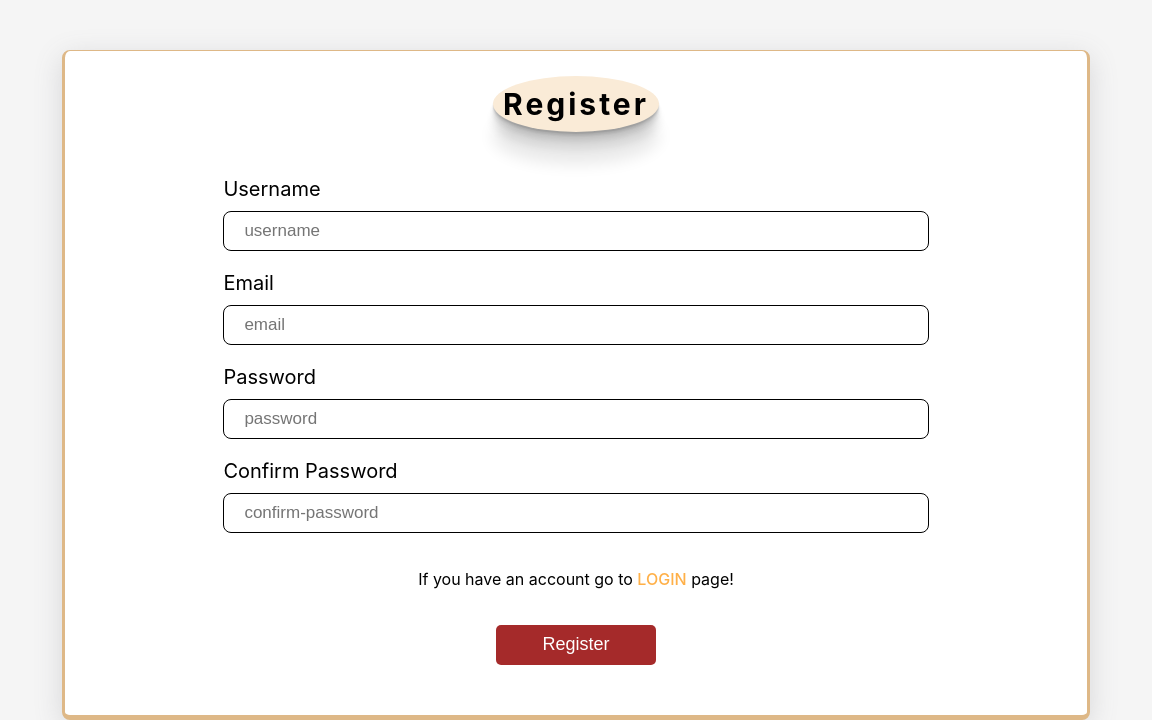
Test: Register Component › Render erros for invalid email
Type "test" into the field with test id "email". click: coordinates (576, 325)
box: [223,305,929,345]
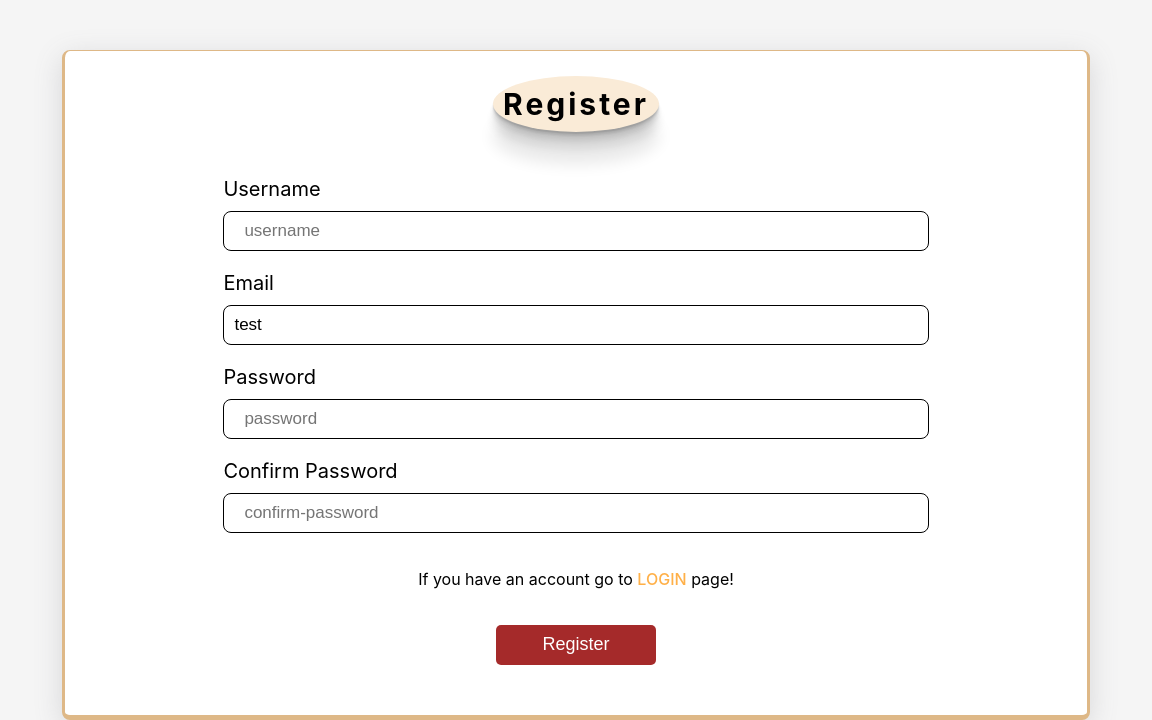
Leave the field with test id "email", box [223,305,929,345]
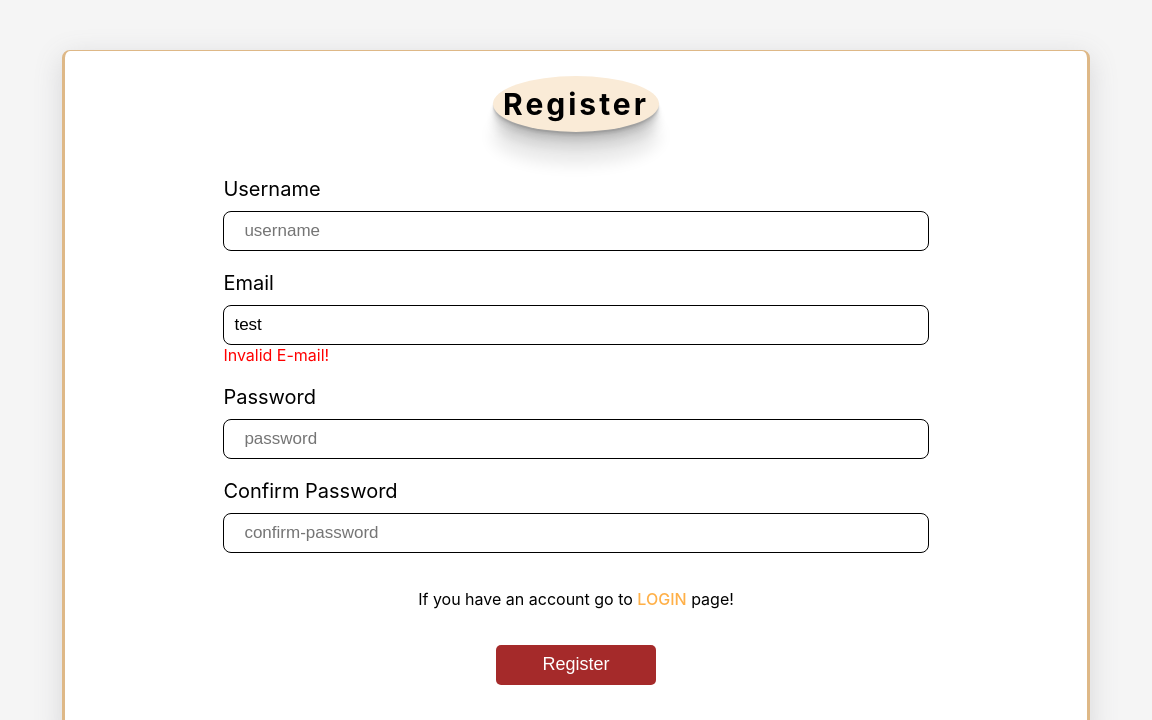
Now the text "Invalid E-mail!" is shown, box [223,345,329,365]
Type "a" into the field with test id "username". click: coordinates (576, 231)
box: [223,211,929,251]
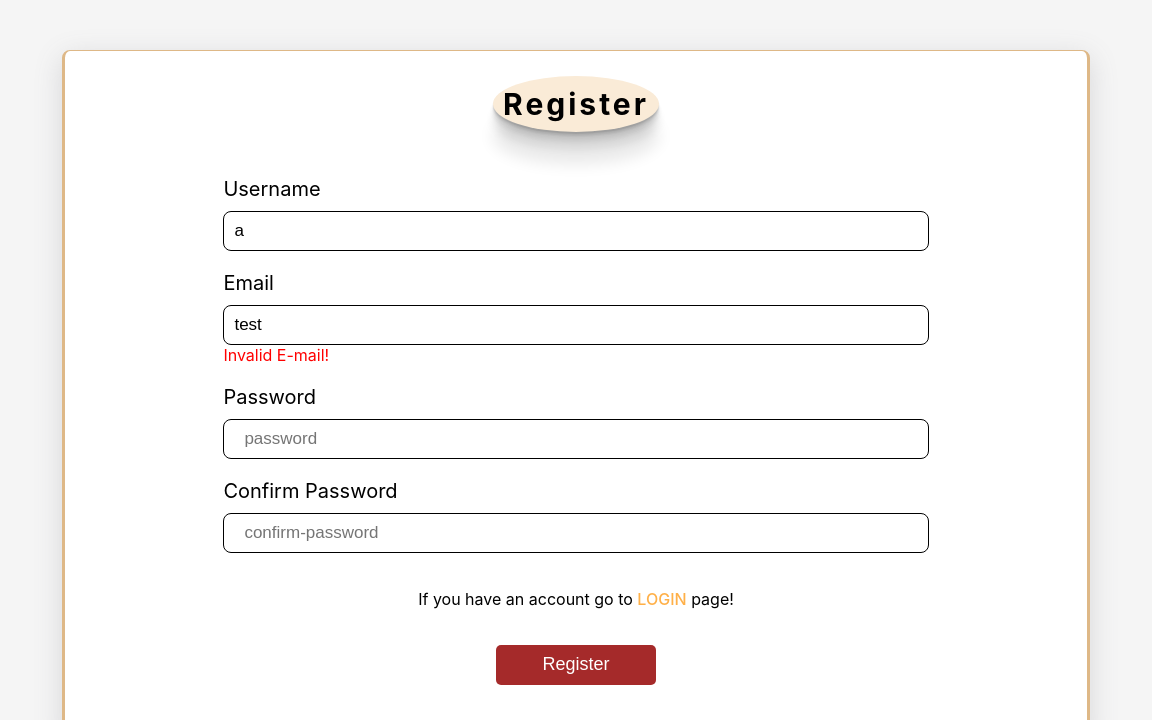
Leave the field with test id "username", box [223,211,929,251]
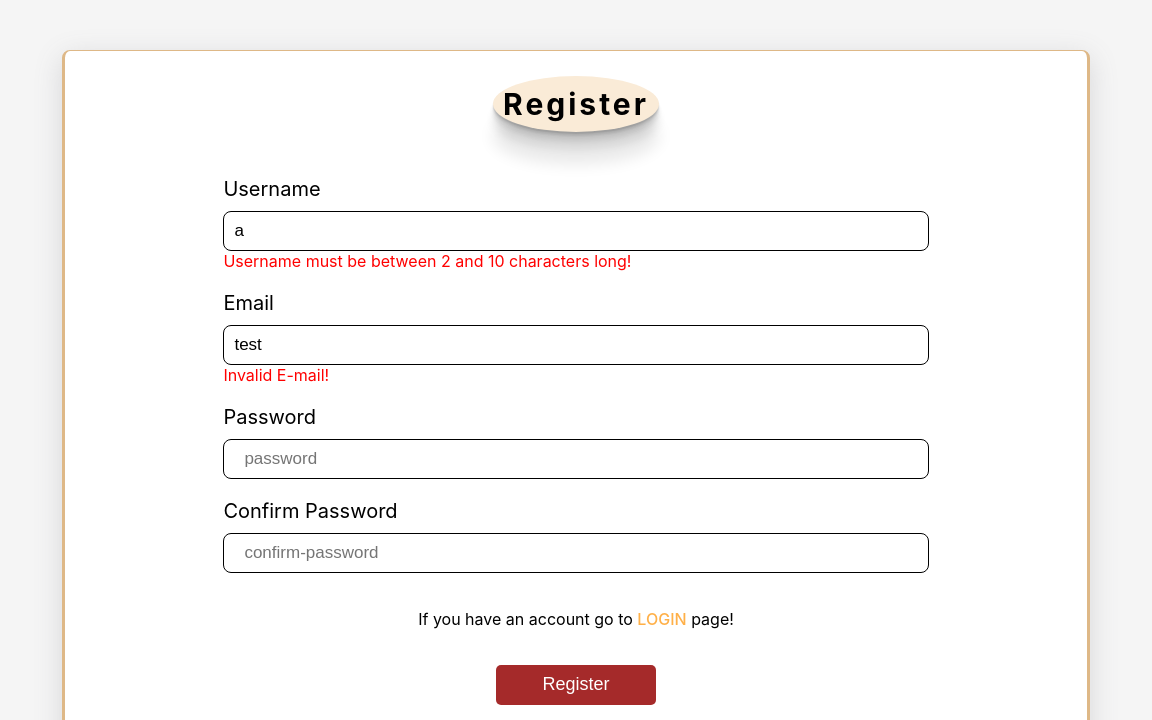
Now the text "Username must be between 2 and 10 characters long!" is shown, box [223,251,632,271]
